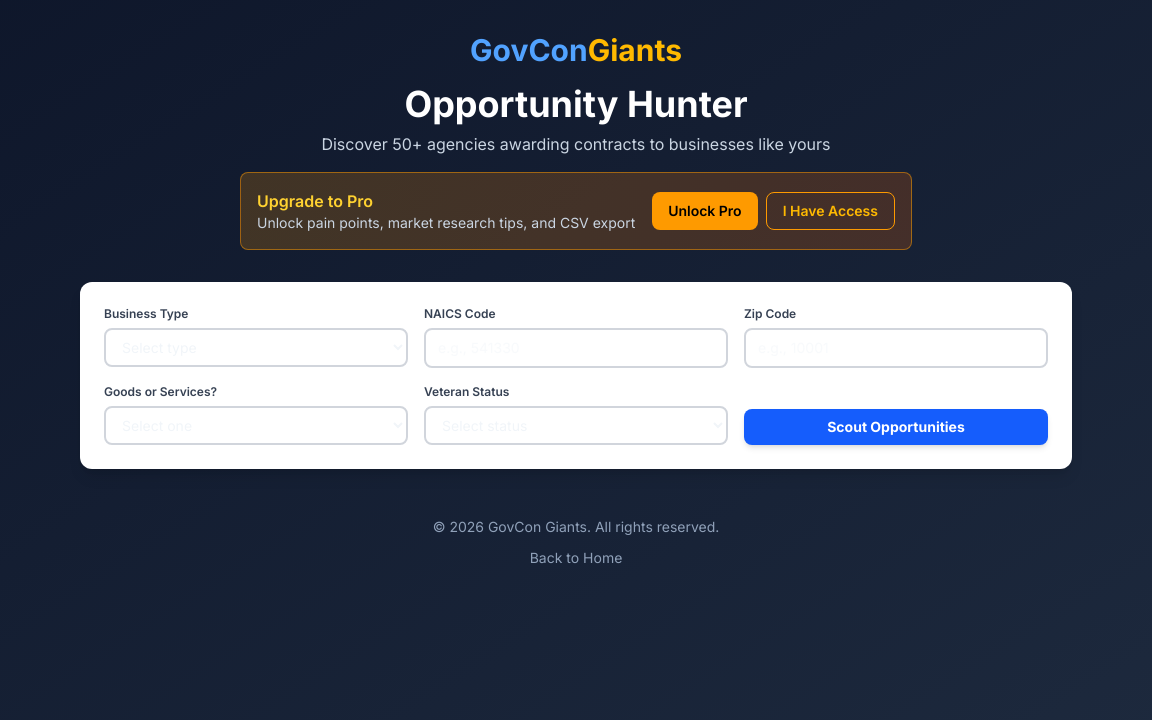
Test case: OpportunityScoutPage › opens modal when clicking agency row
Submit search
Click the button "Scout Opportunities".
click(896, 427)  # box [744,409,1048,445]
(page scrolled)
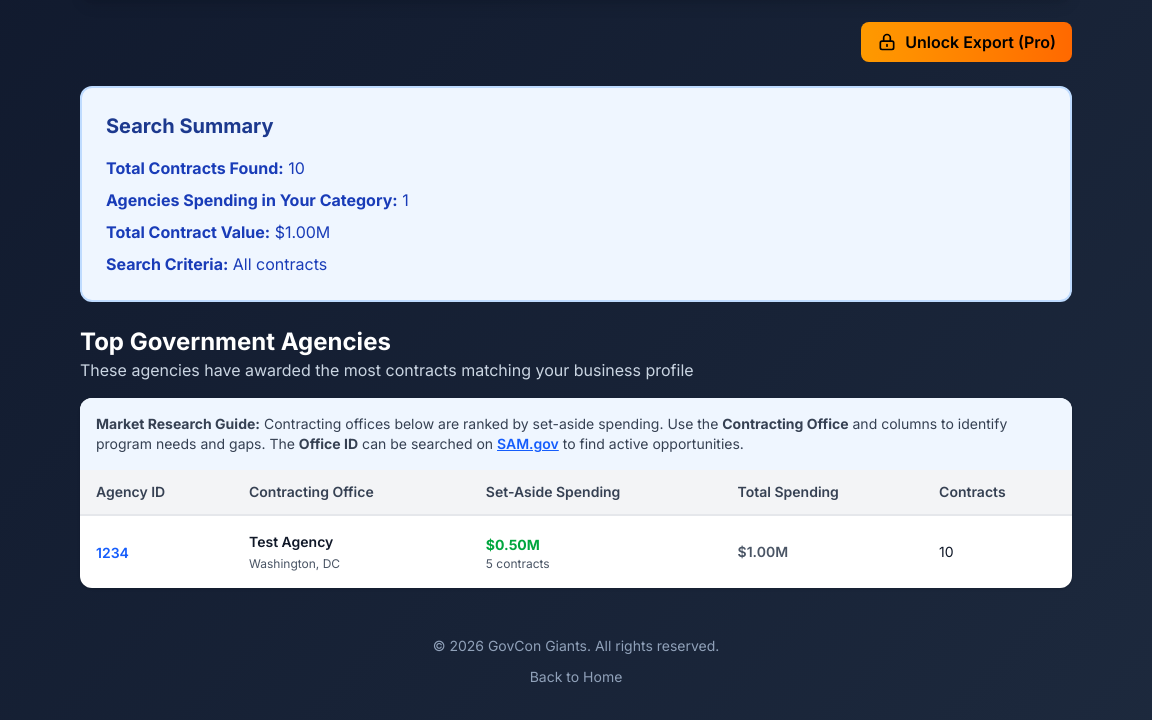
Check: the text "Test Agency" is shown
Click on agency row
Click the text "Test Agency".
click(291, 542)  # box [249,533,333,550]
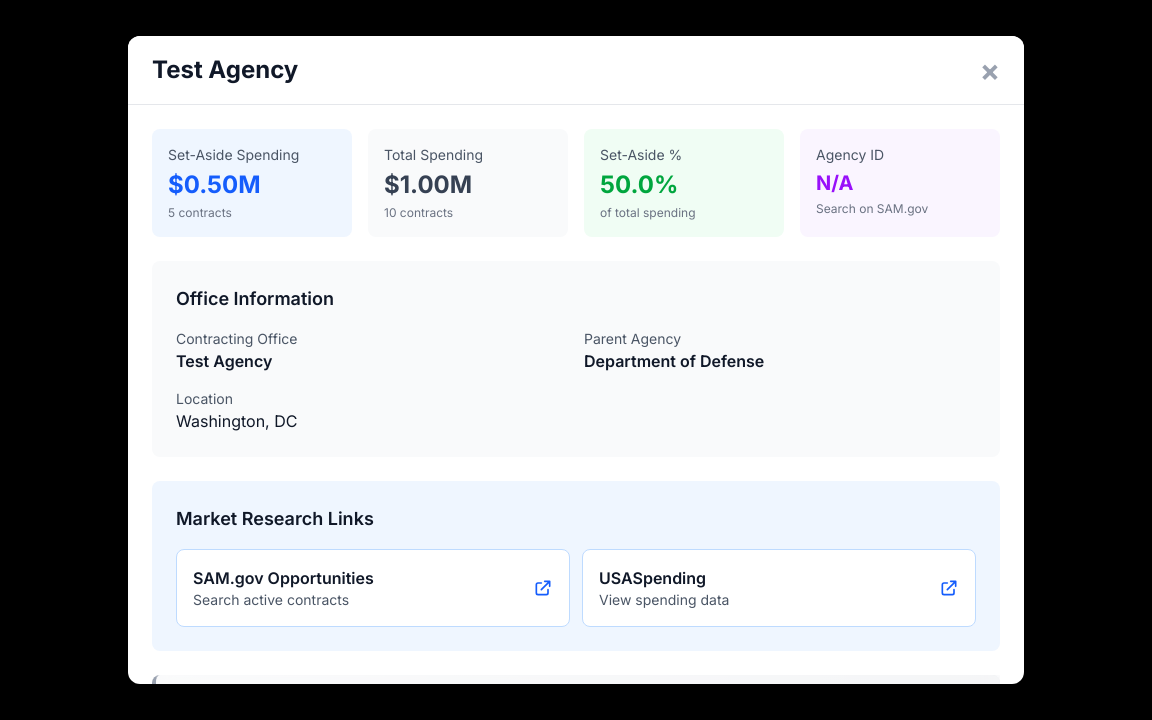
Check: the heading "Office Information" is shown, box [176,288,334,309]
Check: the heading "Market Research Links" is shown, box [176,508,374,529]
